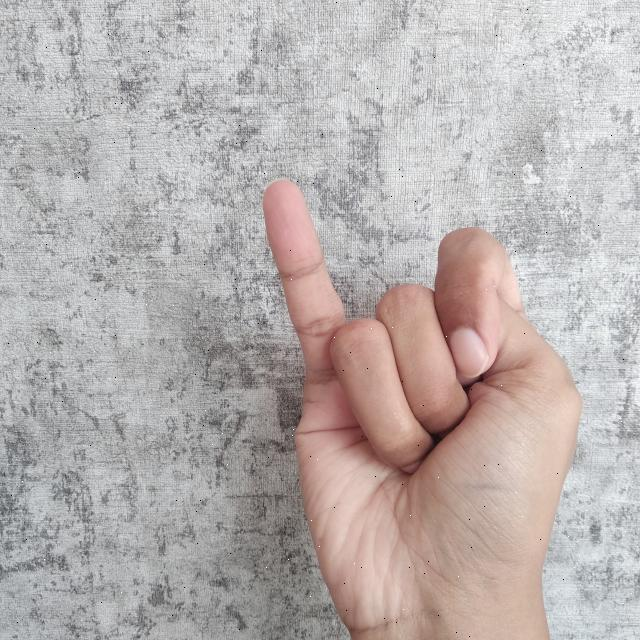I: (258, 169, 586, 640)
